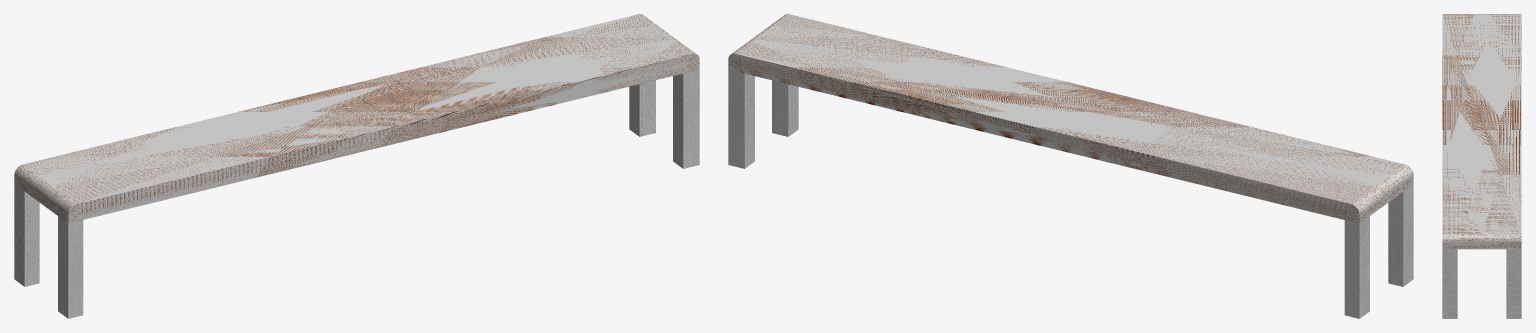
The picture shows the model from 3 angles, left to right: view 1: azimuth 30°, elevation 25°; view 2: azimuth 150°, elevation 25°; view 3: azimuth 270°, elevation 25°; orthographic projection. The views are drawn at different scales.
Parts seen in each view (by area): view 1: mesh1_mesh1-geometry; view 2: mesh1_mesh1-geometry; view 3: mesh1_mesh1-geometry.
Boxes of the visible parts, x1,y1,x2,y2 form: mesh1_mesh1-geometry: [14, 14, 699, 318]; mesh1_mesh1-geometry: [728, 14, 1413, 318]; mesh1_mesh1-geometry: [1442, 14, 1521, 318].
Bounding box in the file's own units: 0.9753 × 0.1667 × 0.1449.
